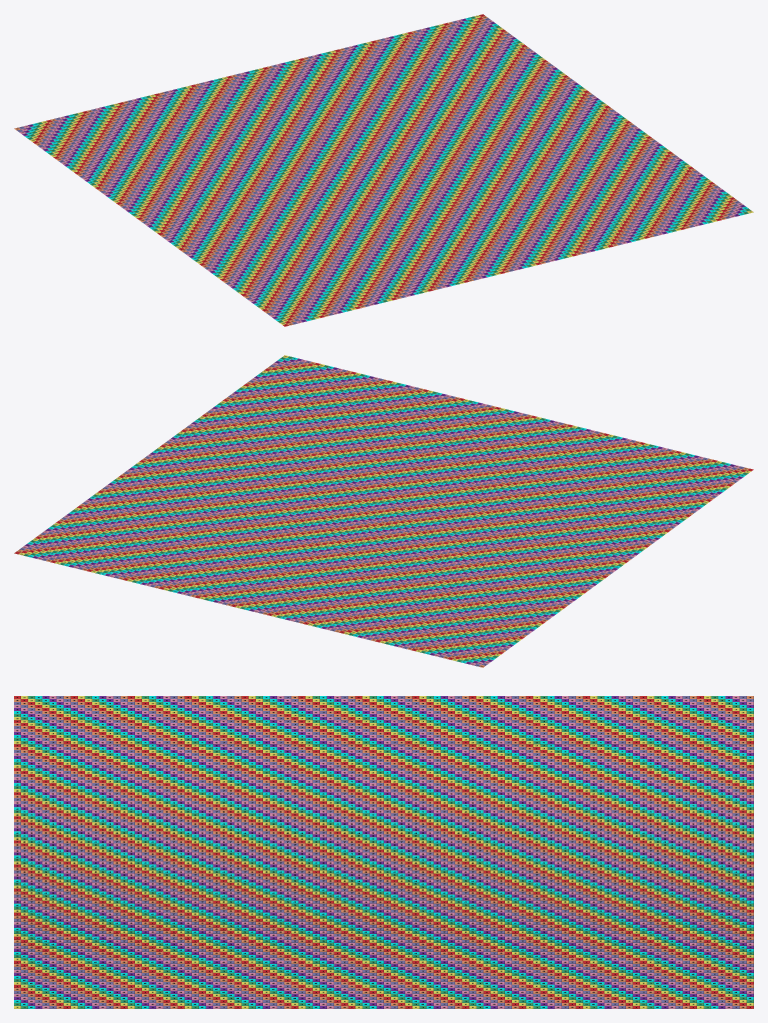
File: watertess_LOD.fbx
3 renders of one model, top to bottom at view 1: azimuth 30°, elevation 25°; view 2: azimuth 150°, elevation 25°; view 3: azimuth 270°, elevation 25°, orthographic. The views are drawn at different scales.
Visible parts, largest first — view 1: BigPlane; view 2: BigPlane; view 3: BigPlane.
Part boxes in pixels (x1,y1,x2,y2): BigPlane: [14, 14, 753, 326]; BigPlane: [14, 355, 753, 667]; BigPlane: [14, 696, 753, 1008].
Size of the model in its own units: 1664 by 0.000271 by 1664.
